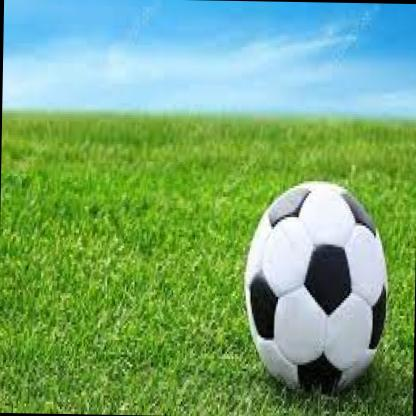ball: (243, 180, 388, 392)
